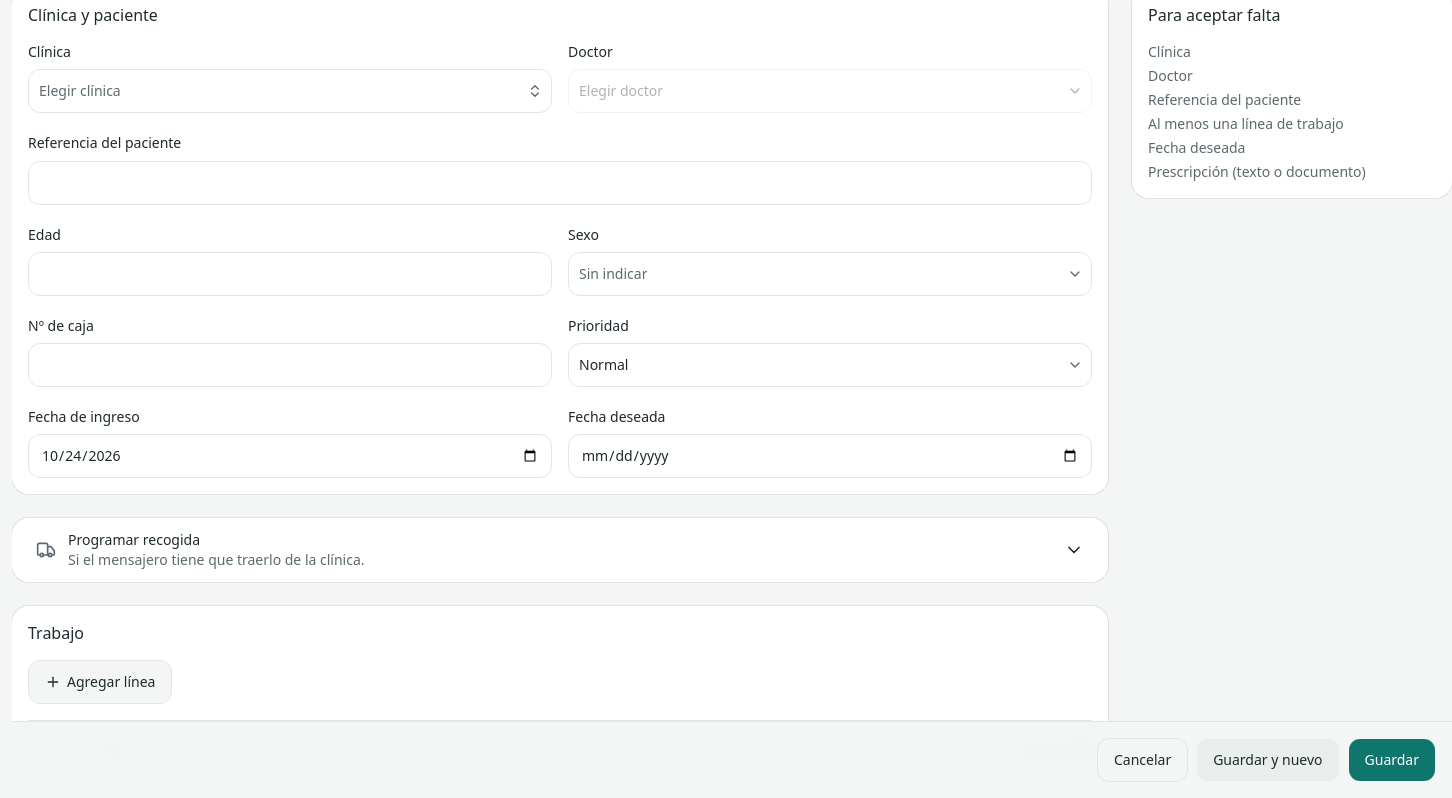
Test: CaseForm › programar recogida (ENT-1) › dos secciones «Programar recogida» montadas no comparten ids
The width and height of the screenshot is (1452, 798).
Click the button "Programar recogida".
click(134, 540)  # box [12,518,1108,582]
(page scrolled)
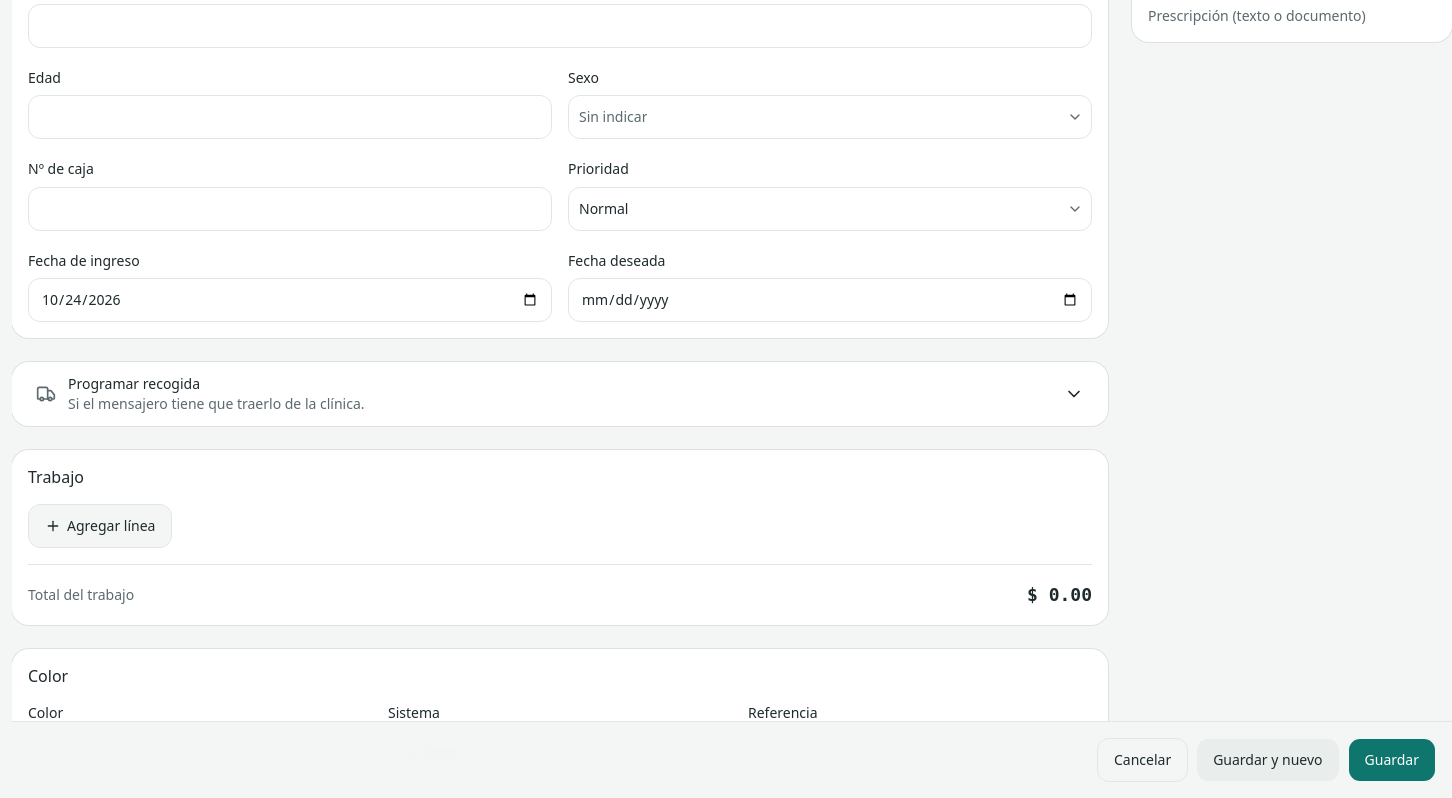
Click the button "Programar recogida".
click(134, 383)  # box [12,362,1108,426]
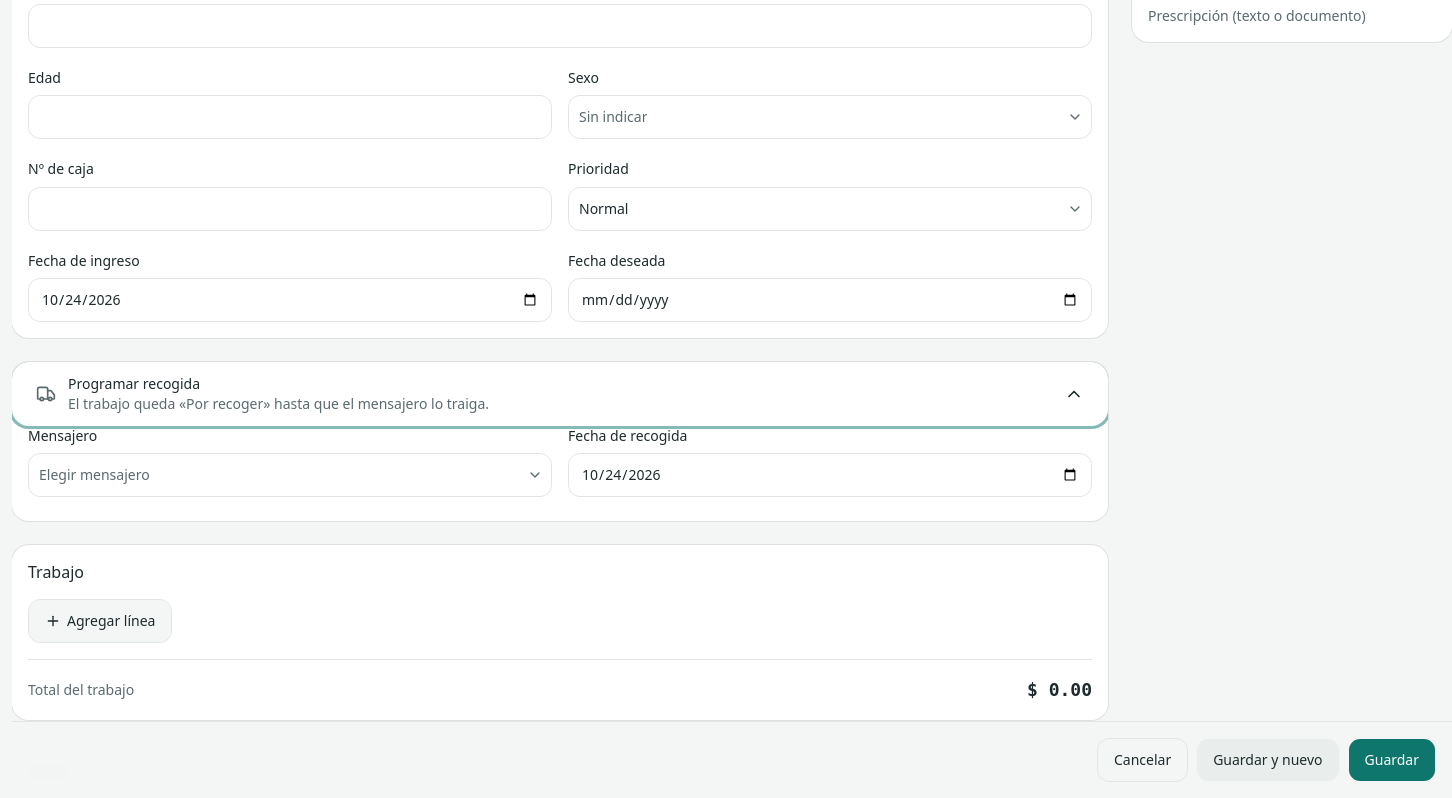
Expected: the date field labelled "Fecha de recogida" is shown, [568,453,1092,497]
Expected: the dropdown labelled "mensajero" is shown, [28,453,552,497]
